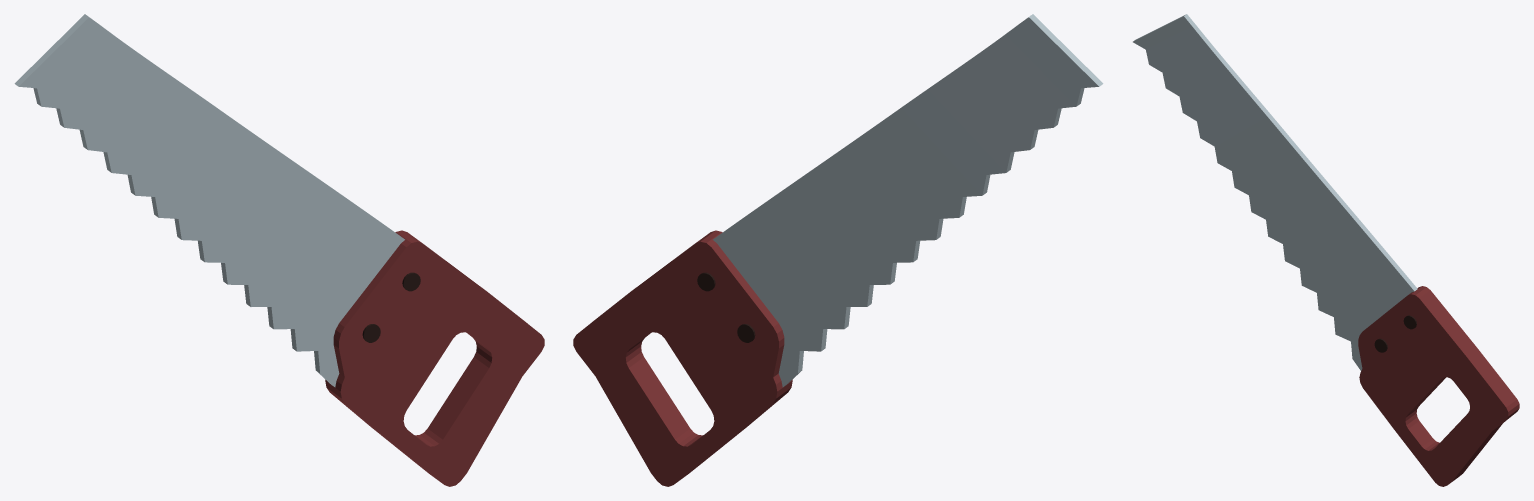
File: carpentry_saw.glb
3 views of the same model, side by side, from view 1: azimuth 30°, elevation 25°; view 2: azimuth 150°, elevation 25°; view 3: azimuth 330°, elevation 25° (orthographic). The views are drawn at different scales.
Visible parts, largest first — view 1: Cube.998; view 2: Cube.998; view 3: Cube.998.
Part boxes in pixels (bbox=[...]): Cube.998: bbox=[14, 14, 544, 486]; Cube.998: bbox=[573, 14, 1103, 486]; Cube.998: bbox=[1133, 14, 1519, 486].
Size of the model in its own units: 2.02 by 2.05 by 0.1198.
1 material, 1 textured.
